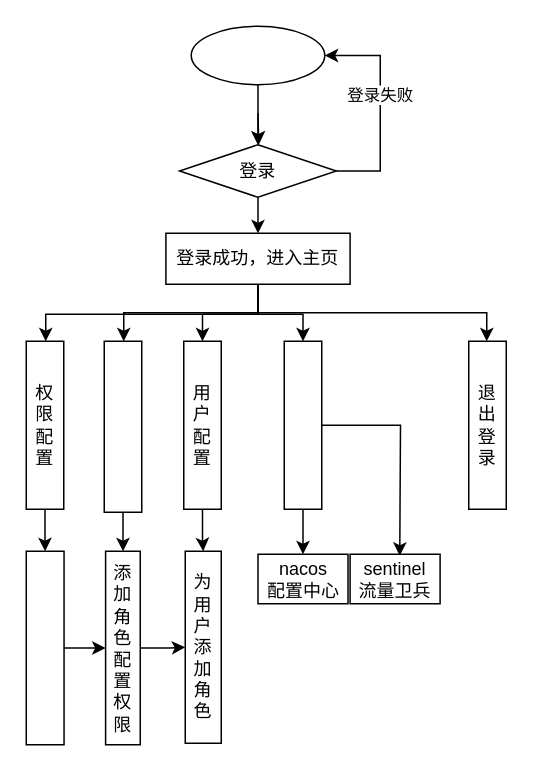
The diagram is 533 pixels wide and 771 high, and some of its shapes have lost their labels. Each missing label, with the centre of its shape:
"添加接口级权限" belongs at point (44, 647).
"系统管理" belongs at point (302, 424).
"角色配置" belongs at point (122, 426).
"超级管理员" belongs at point (257, 55).
